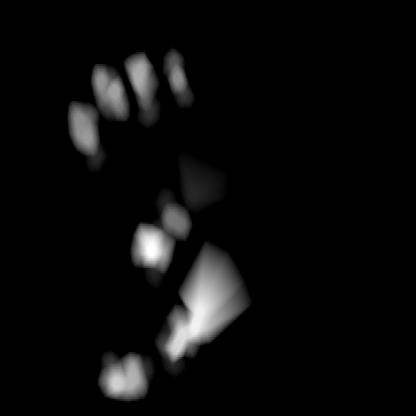fingers: (95, 345, 152, 403)
palm: (66, 50, 186, 158)
thumb: (133, 167, 244, 372)
